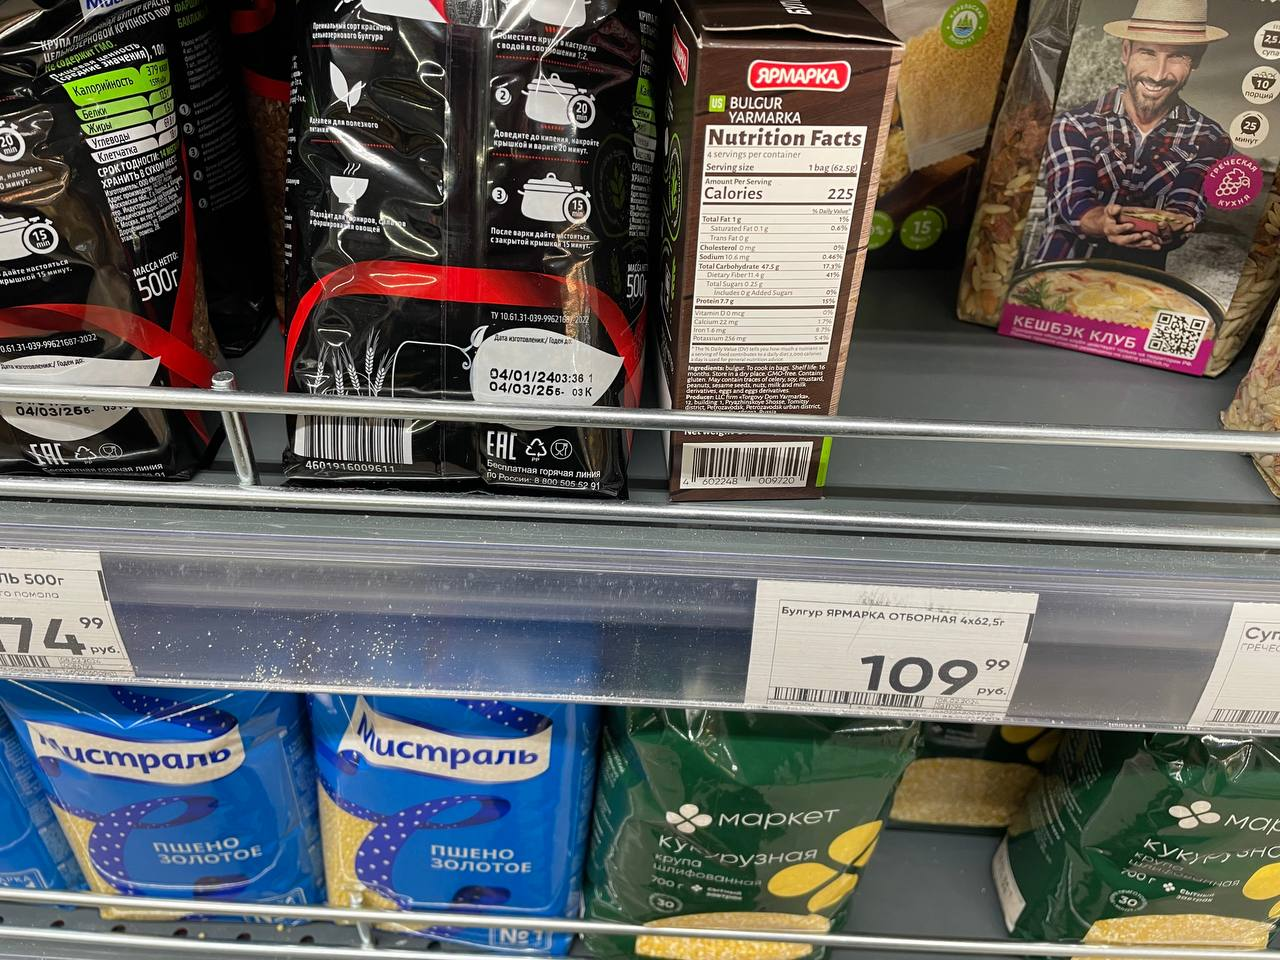1d: (303, 413, 404, 462), (774, 685, 925, 710), (692, 446, 809, 478), (1210, 707, 1279, 724)
2d: (1145, 311, 1208, 360)
